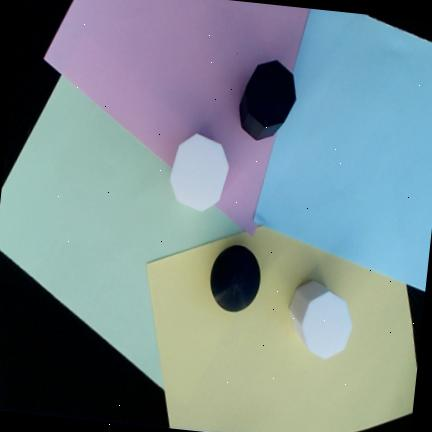Esfera: (210, 245, 261, 312)
Prisma_hexagonal: (287, 280, 353, 360), (169, 133, 229, 212), (238, 60, 296, 141)
